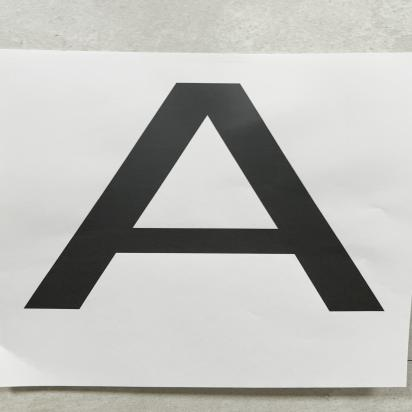seat: (22, 66, 412, 326)
